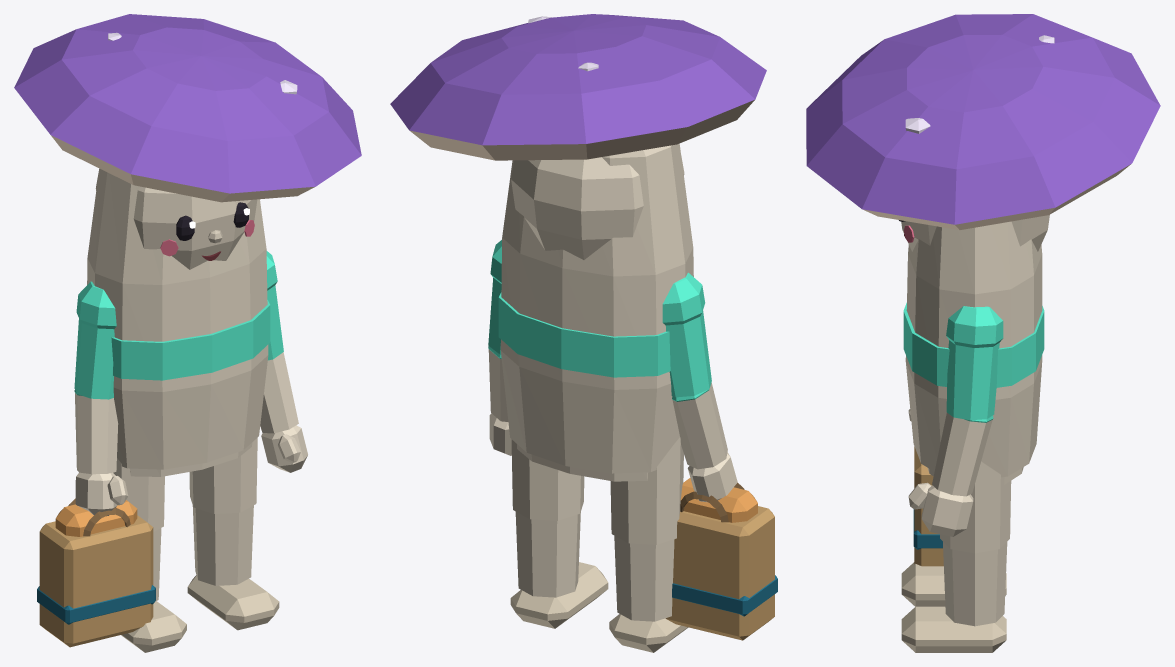
File: spo-k2.glb
3 renders of one model, left to right at view 1: azimuth 30°, elevation 25°; view 2: azimuth 150°, elevation 25°; view 3: azimuth 270°, elevation 25°, orthographic. The views are drawn at different scales.
Parts seen in each view (by area): view 1: pilzkappe, torso, gegenstand_bag, bein_l, arm_r, kopf, arm_l, schuh_l, bein_r, hand_r, schuh_r, hand_l (+2 smaller); view 2: torso, pilzkappe, gegenstand_bag, kopf, bein_r, bein_l, arm_r, schuh_l, arm_l, schuh_r, hand_r, becken (+1 smaller); view 3: pilzkappe, torso, arm_l, bein_l, schuh_l, hand_l, schuh_r, gegenstand_bag, kopf.
Part boxes in pixels (x1,y1,x2,y2): pilzkappe: (14,14,361,202); torso: (87,168,270,469); gegenstand_bag: (37,498,155,647); bein_l: (189,438,257,585); arm_r: (74,281,118,474); kopf: (95,173,257,269); arm_l: (260,251,298,433); schuh_l: (187,575,279,630); bein_r: (113,458,164,601); hand_r: (75,472,128,516); schuh_r: (121,601,186,652); hand_l: (261,425,307,472); torso: (498,143,693,473); pilzkappe: (390,14,766,160); gegenstand_bag: (665,478,777,640); kopf: (511,156,684,259); bein_r: (610,437,683,621); bein_l: (511,439,584,597); arm_r: (662,272,727,469); schuh_l: (510,562,608,628); arm_l: (488,240,508,421); schuh_r: (609,614,688,652); hand_r: (687,452,737,502); becken: (517,444,647,481); pilzkappe: (806,14,1160,230); torso: (903,221,1044,477); arm_l: (932,306,1003,496); bein_l: (940,461,1011,626); schuh_l: (901,606,1006,652); hand_l: (908,482,973,536); schuh_r: (901,562,1006,606); gegenstand_bag: (913,446,943,566); kopf: (901,214,1049,251).
Size of the model in its own units: 0.00924 by 0.0163 by 0.00912.
